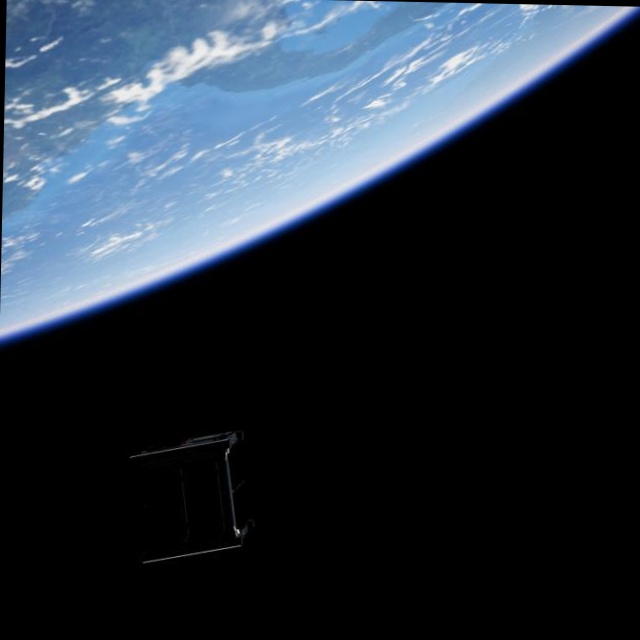medium_debris: (107, 428, 259, 576)
